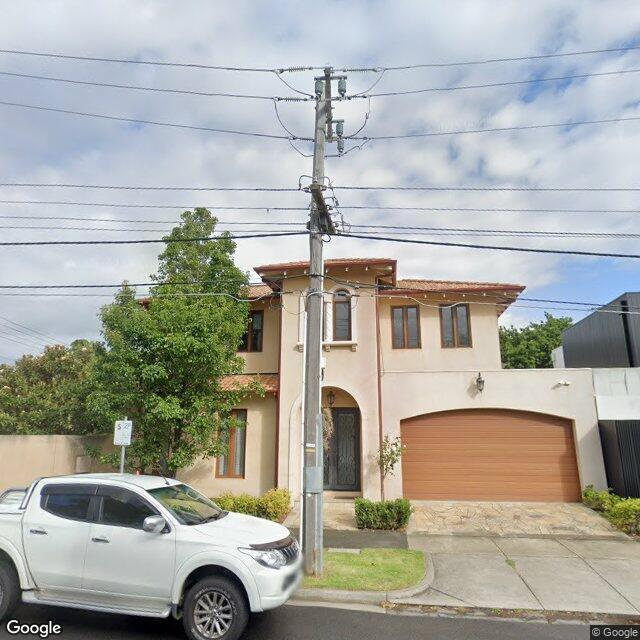HV-transmission: (272, 66, 376, 158)
crossarm: (298, 175, 352, 242), (325, 68, 333, 138)
timber-pole: (302, 93, 327, 577)
